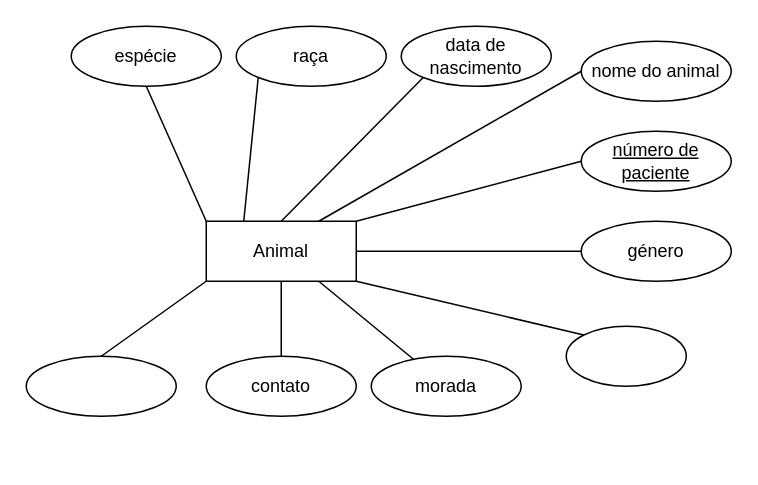
This 758x485 diagram has some shape labels left out. Here are the shapes that lost their labels. From the top down, the centre of each, then its label:
At point 625,355: "NIF".
At point 100,385: "nome do dono".
